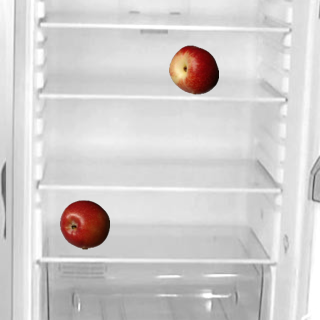Apple Braeburn: (59, 199, 109, 249)
Nectarine: (168, 44, 218, 94)
